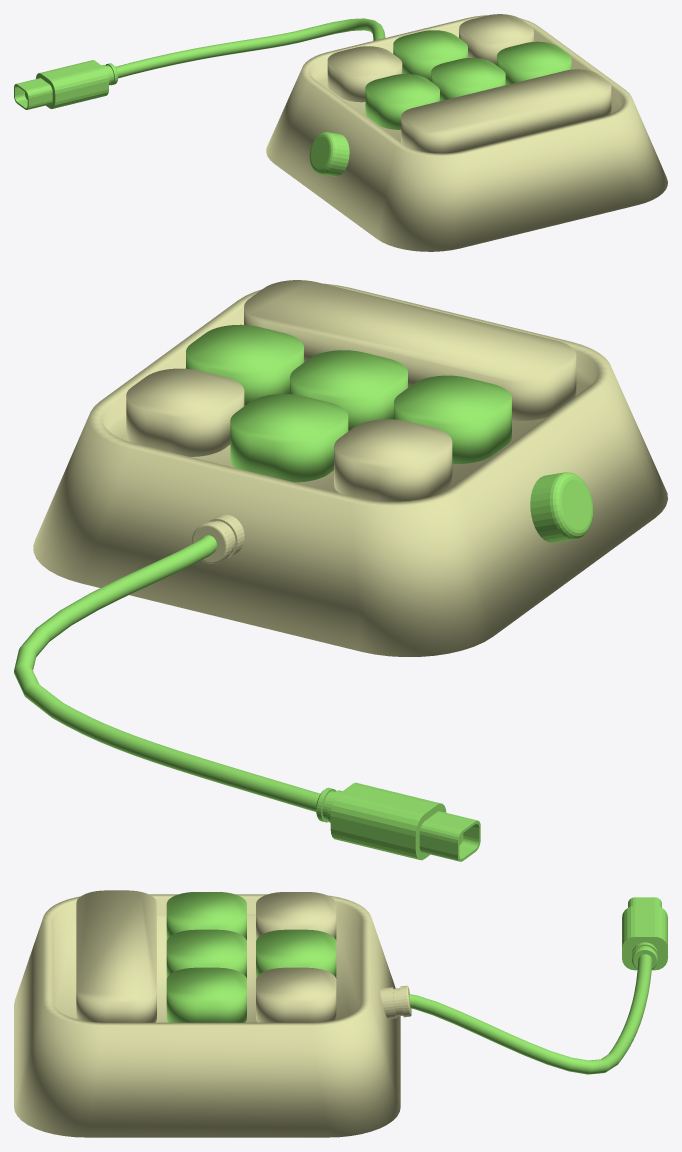
Rendered from mini-cartoon-keyboard.gltf.
The picture shows the model from 3 angles, top to bottom: view 1: azimuth 30°, elevation 25°; view 2: azimuth 150°, elevation 25°; view 3: azimuth 270°, elevation 25°; orthographic projection. The views are drawn at different scales.
Visible parts, largest first — view 1: Cube, Cube.012, BezierCurve, Cube.005, Cube.002, Cube.003, Cube.004, Cube.001, Cube.007, Cube.010, Cylinder, Cube.008; view 2: Cube, Cube.012, BezierCurve, Cube.005, Cube.004, Cube.003, Cube.002, Cube.010, Cube.001, Cube.007, Cylinder, Cube.008 (+1 smaller); view 3: Cube, Cube.012, BezierCurve, Cube.001, Cube.004, Cube.010, Cube.003, Cube.005, Cube.002, Cube.007, Cylinder.001, Cylinder.002.
Part boxes in pixels (<box>): Cube: <box>266,15,667,251</box>; Cube.012: <box>401,69,611,153</box>; BezierCurve: <box>115,18,385,78</box>; Cube.005: <box>327,46,402,102</box>; Cube.002: <box>365,74,439,129</box>; Cube.003: <box>393,30,467,81</box>; Cube.004: <box>459,14,533,65</box>; Cube.001: <box>497,41,571,84</box>; Cube.007: <box>36,60,108,108</box>; Cube.010: <box>431,58,505,100</box>; Cylinder: <box>309,132,349,176</box>; Cube.008: <box>14,78,52,109</box>; Cube: <box>33,283,667,656</box>; Cube.012: <box>244,280,576,420</box>; BezierCurve: <box>14,535,320,811</box>; Cube.005: <box>334,419,452,501</box>; Cube.004: <box>126,368,244,456</box>; Cube.003: <box>230,394,348,482</box>; Cube.002: <box>394,375,511,463</box>; Cube.010: <box>290,350,407,431</box>; Cube.001: <box>186,324,303,405</box>; Cube.007: <box>330,782,446,860</box>; Cylinder: <box>530,472,593,542</box>; Cube.008: <box>419,811,480,861</box>; Cube: <box>14,894,400,1137</box>; Cube.012: <box>76,890,156,1022</box>; BezierCurve: <box>409,954,652,1074</box>; Cube.001: <box>166,967,246,1022</box>; Cube.004: <box>256,967,336,1022</box>; Cube.010: <box>166,929,246,978</box>; Cube.003: <box>256,929,336,978</box>; Cube.005: <box>256,892,336,940</box>; Cube.002: <box>166,892,246,940</box>; Cube.007: <box>622,905,667,970</box>; Cylinder.001: <box>380,985,411,1018</box>; Cylinder.002: <box>632,942,657,969</box>.
Bounding box in the file's own units: 6.97 × 1.81 × 8.31.
